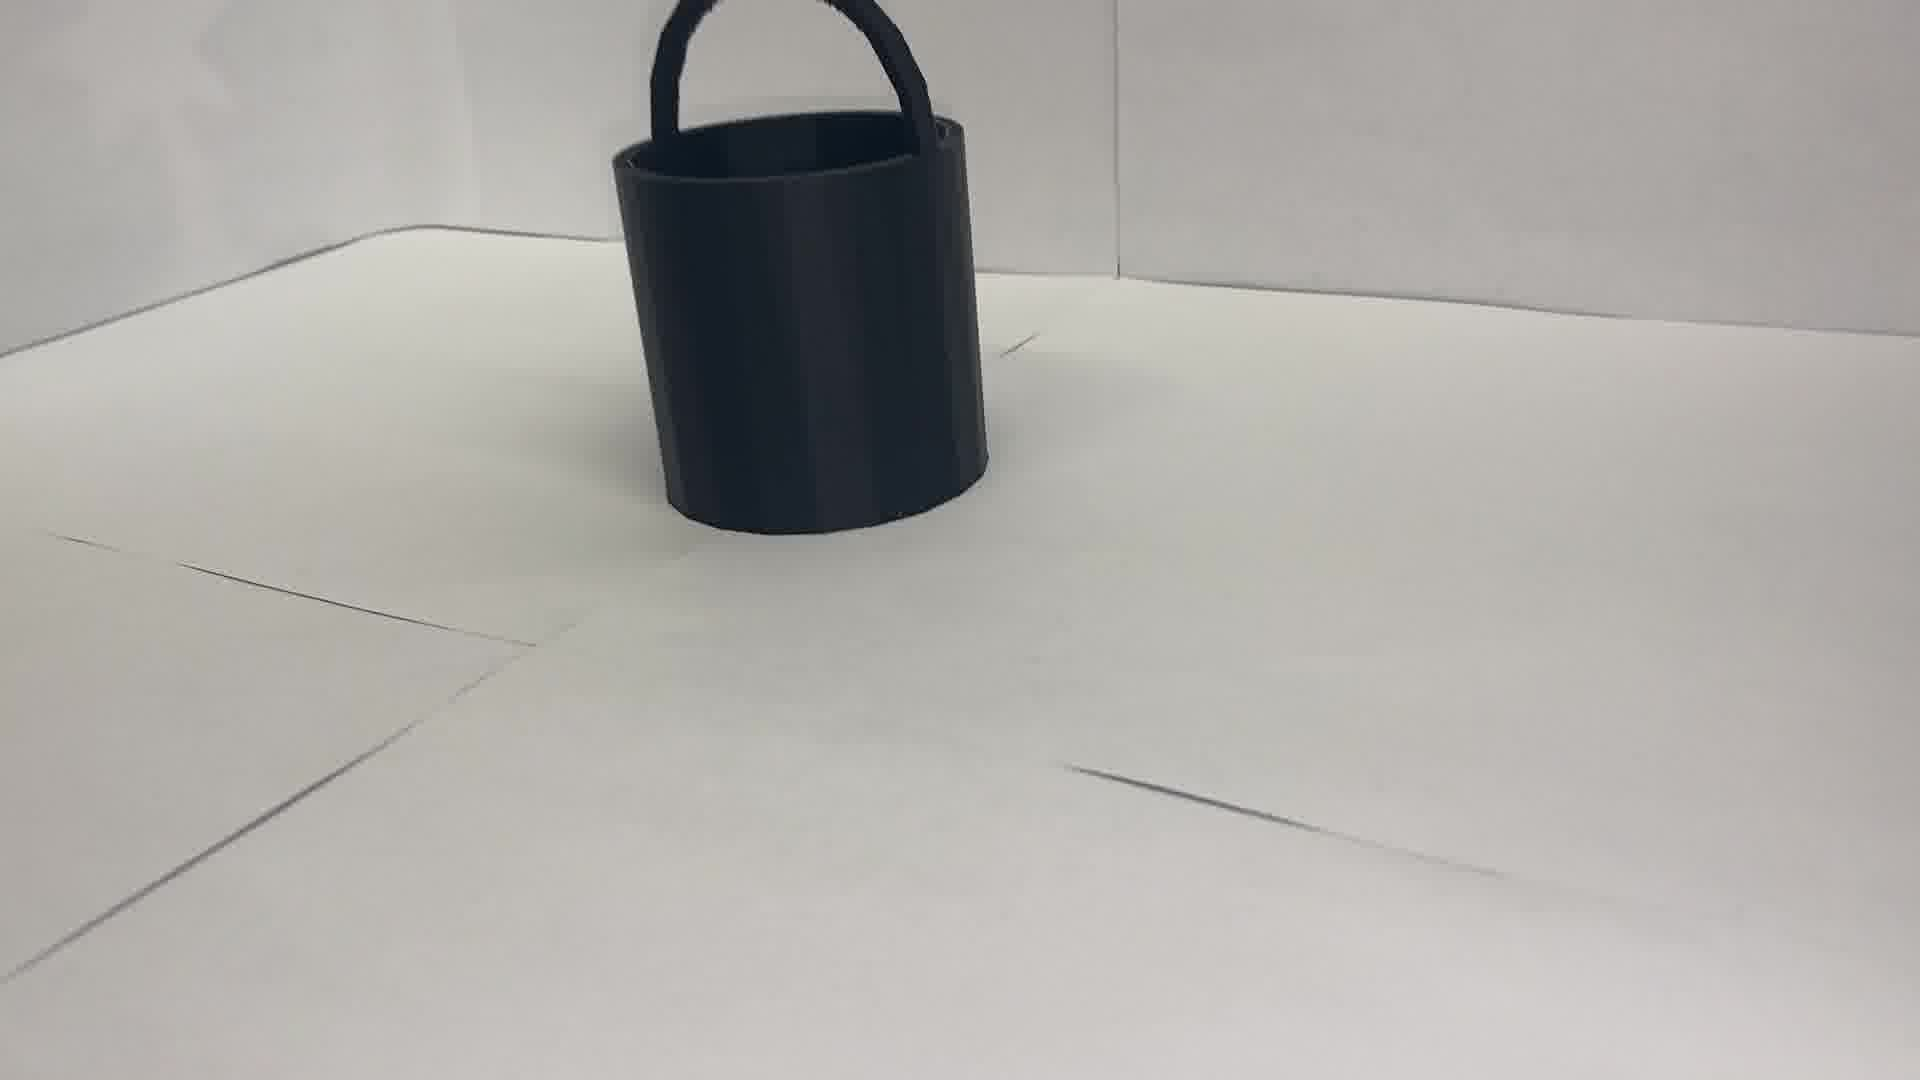bag: (607, 1, 986, 535)
